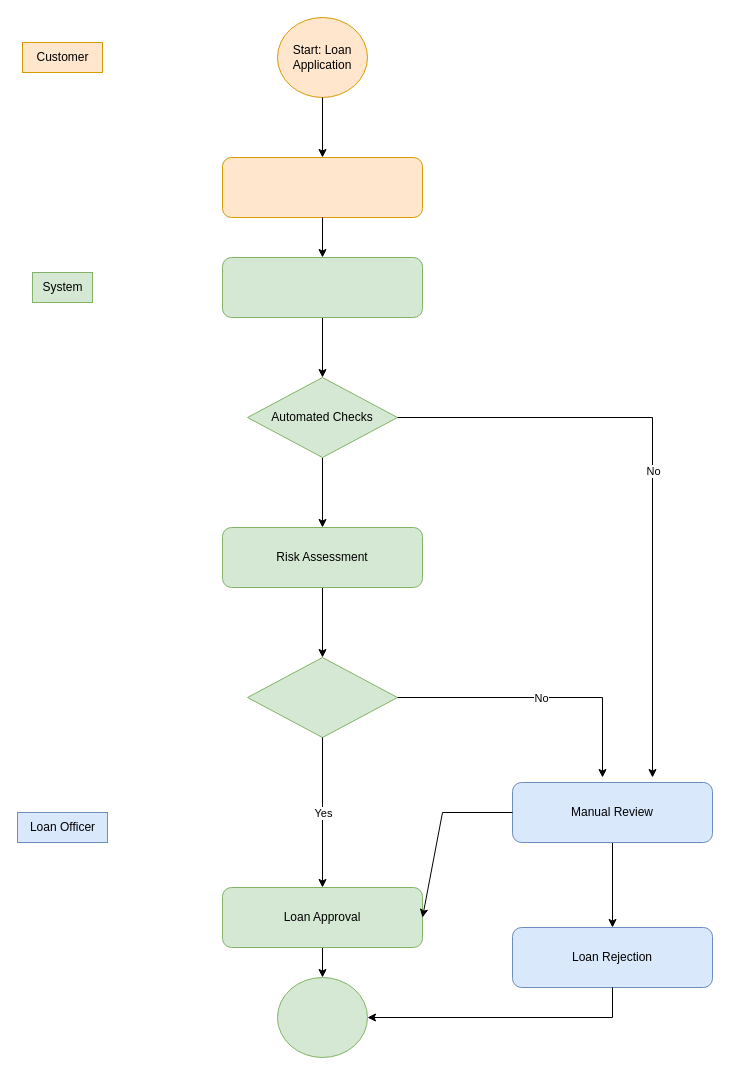
Some shapes in this 730 by 1075 pixel diagram are drawn without their labels. The box of each missing label's shape, as (x1, y1, x2, y2) in pixels:
Application Submission: (222, 156, 422, 218)
Document Verification: (222, 256, 422, 318)
Eligibility Checks: (246, 656, 398, 738)
End: Loan Application: (276, 976, 368, 1058)
